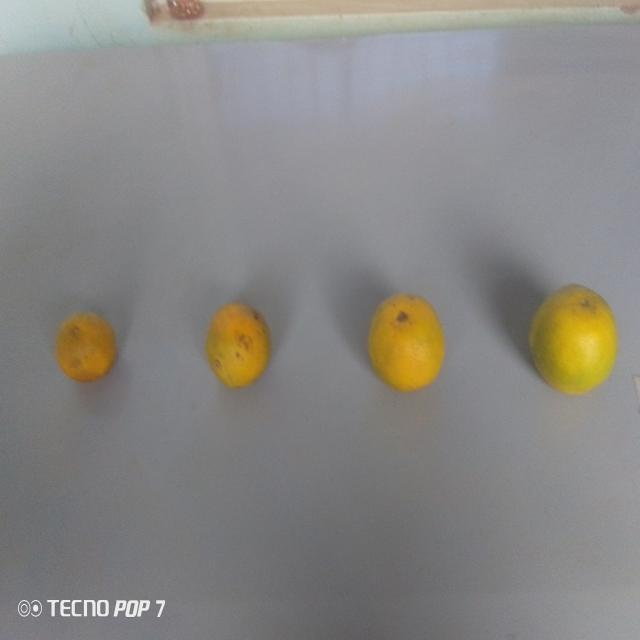Ripe orange: (524, 277, 624, 401), (363, 285, 450, 400), (199, 296, 275, 392), (48, 303, 123, 391)
